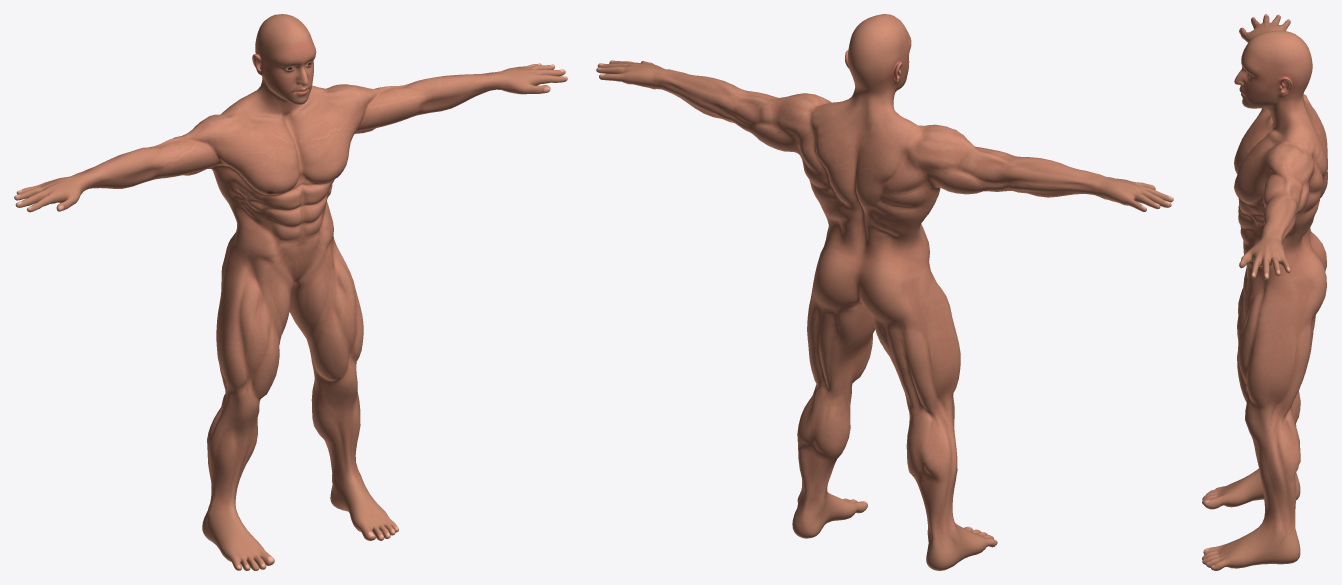
Rendered from anatomy-human.glb.
3 views of the same model, side by side, from view 1: azimuth 30°, elevation 25°; view 2: azimuth 150°, elevation 25°; view 3: azimuth 270°, elevation 25° (orthographic). The views are drawn at different scales.
Parts seen in each view (by area): view 1: body_low; view 2: body_low; view 3: body_low.
Part boxes in pixels (x1=…): body_low: x1=14, y1=14, x2=567, y2=570; body_low: x1=596, y1=14, x2=1173, y2=570; body_low: x1=1202, y1=14, x2=1327, y2=570.
Size of the model in its own units: 0.1994 by 0.1771 by 0.0404.
3 materials, 2 textured.
